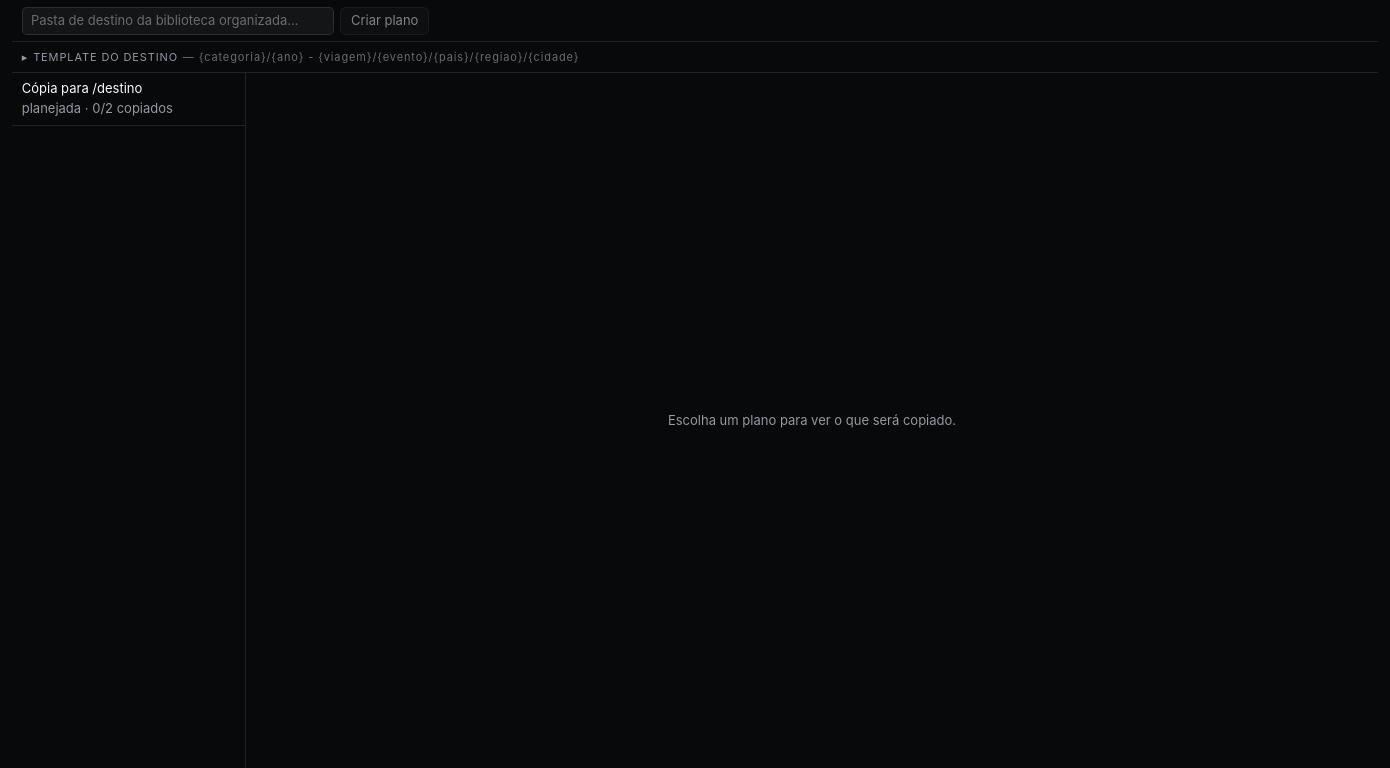
Test: Operações › sem dry-run, copiar fica bloqueado e a tela diz por quê
This screenshot has width=1390, height=768.
Step 1. Click the text "Cópia para /destino" → point(82, 88), box [22,80,142,96]
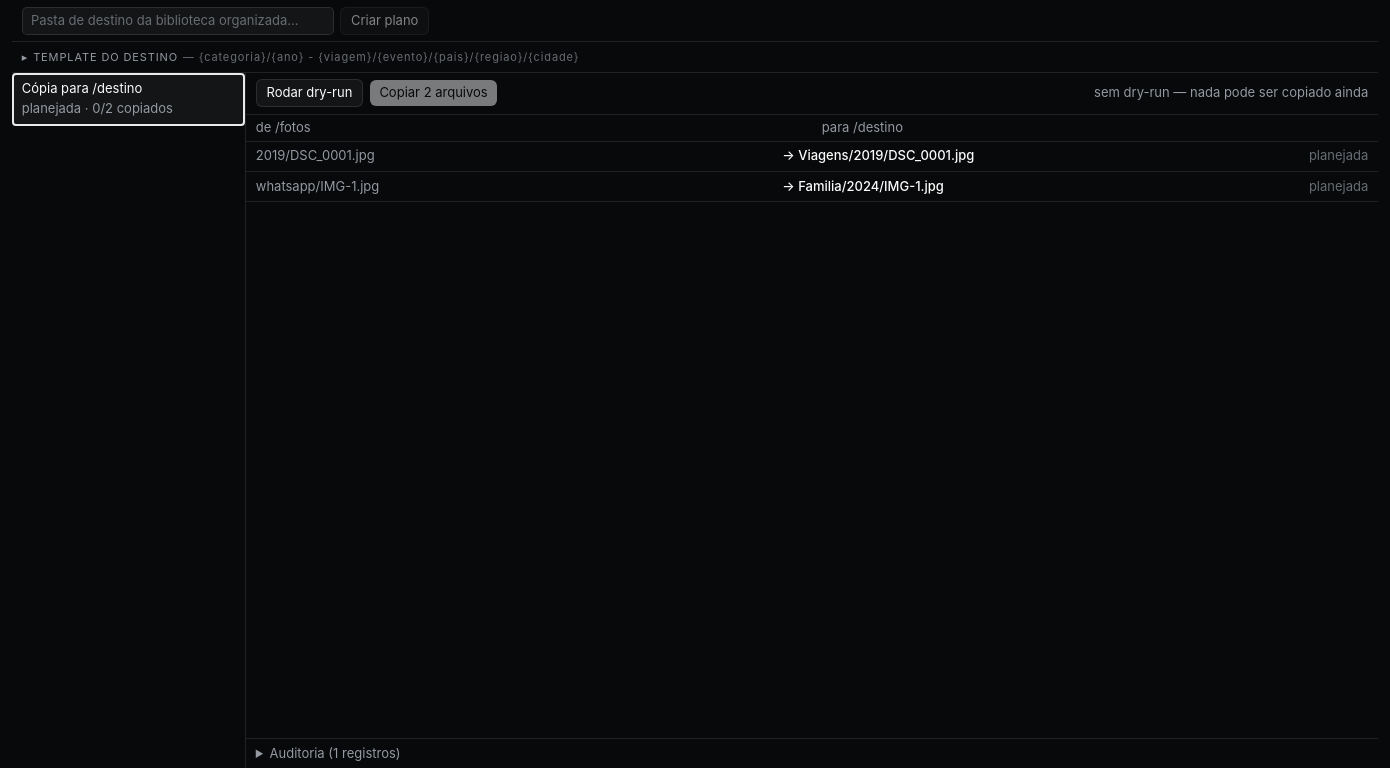
Check: the button "Copiar 2 arquivos" is disabled, box [370,80,497,106]
Check: the text "sem dry-run — nada pode ser copiado ainda" is shown, box [1094,83,1368,103]
